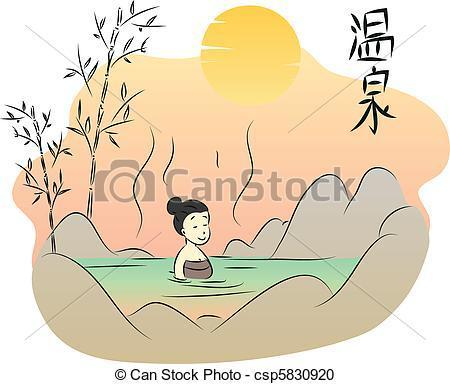person: (163, 194, 216, 279)
